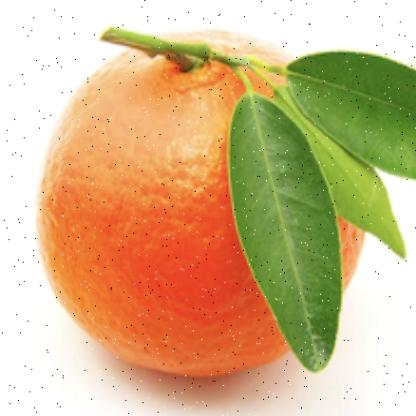fresh: (37, 34, 365, 379)
